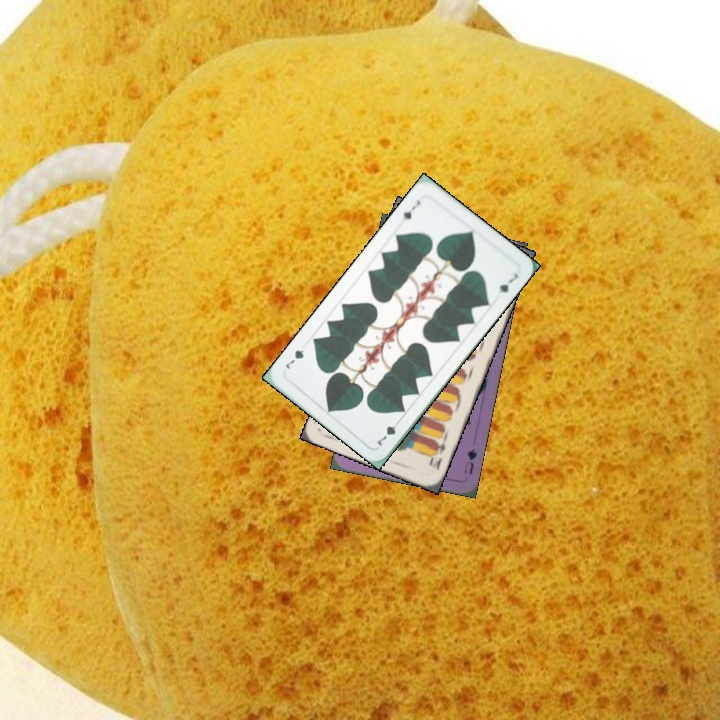E10: (425, 435, 449, 472)
G7: (372, 415, 404, 449), (399, 196, 423, 222)
GU: (460, 444, 480, 477)
